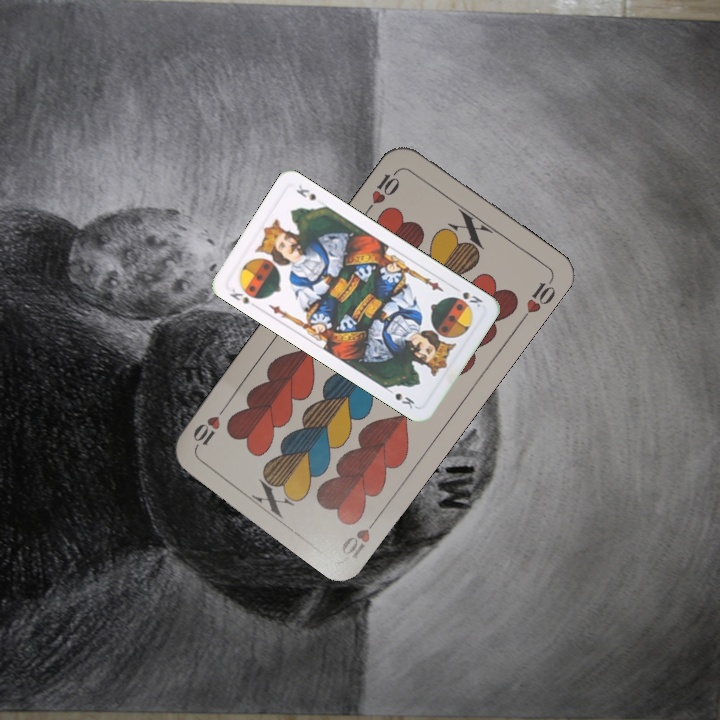H10: (337, 510, 384, 562), (362, 164, 403, 215)
SK: (458, 288, 485, 311), (225, 284, 252, 307)
